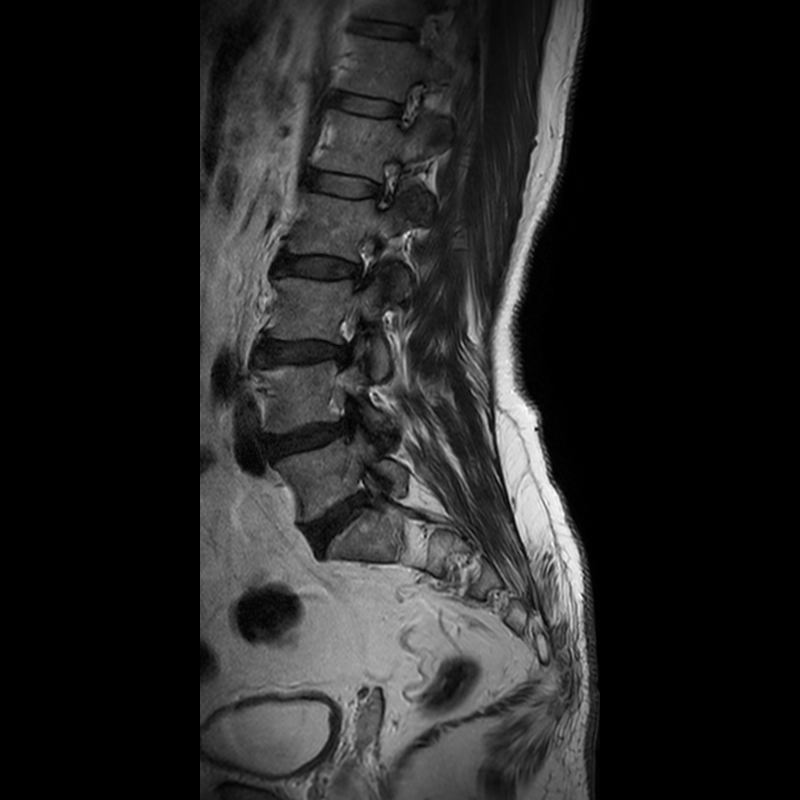RFS0: (363, 146, 412, 223)
